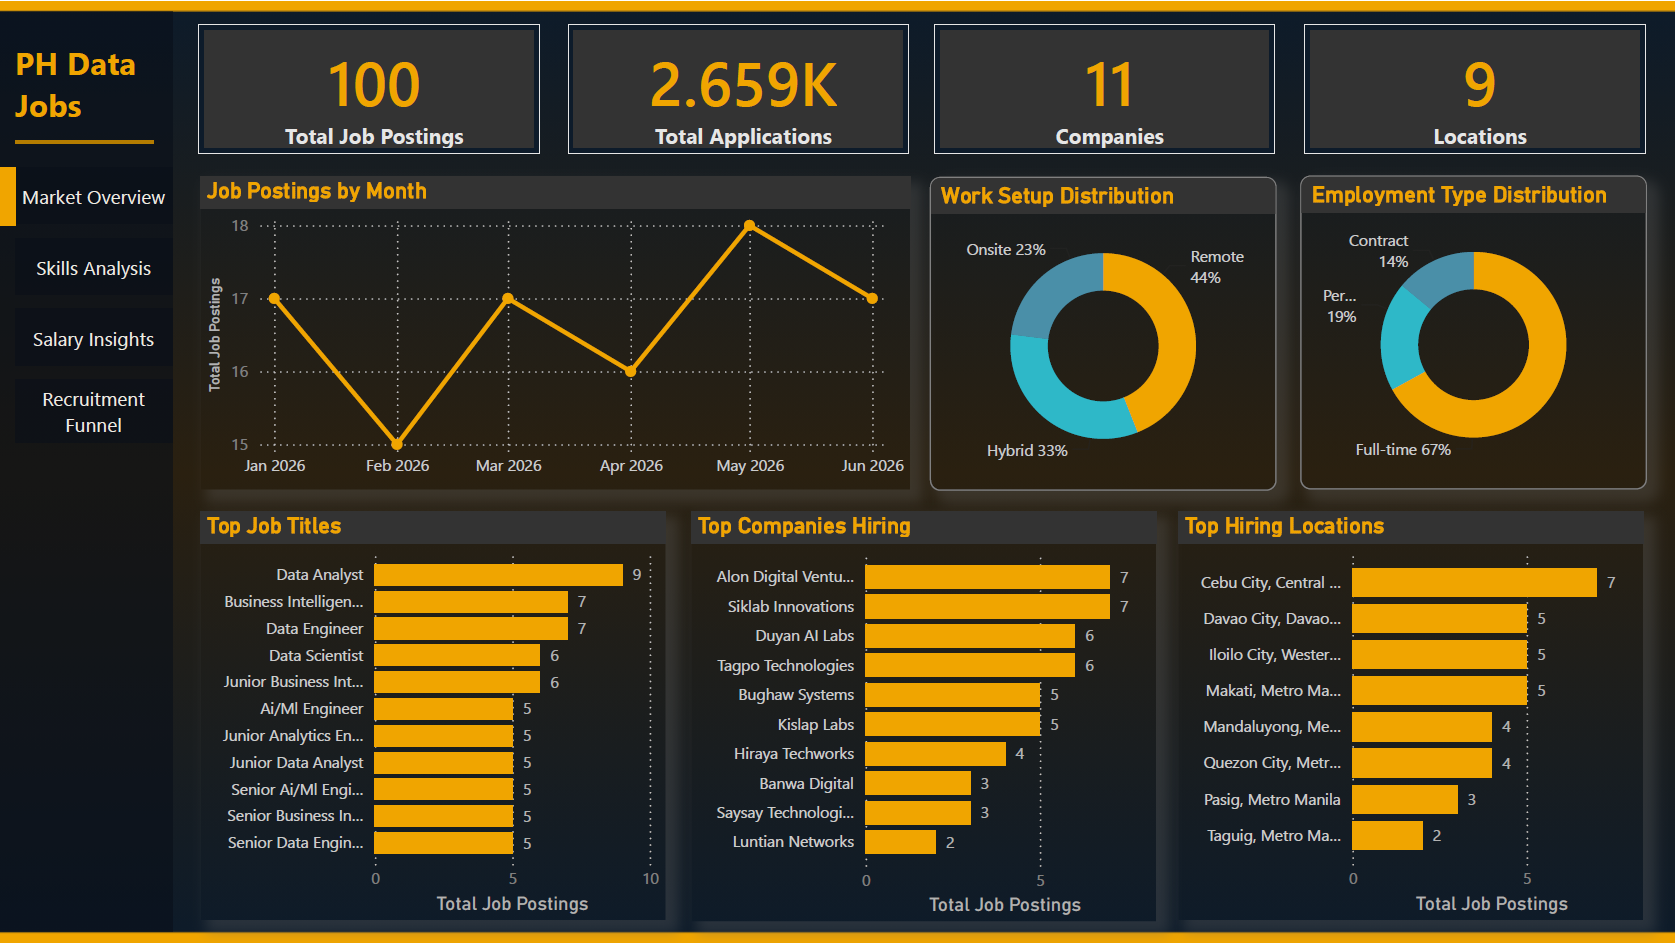

The dashboard page shown, as its layout file describes it:
{"tool":"powerbi","page":{"name":"Market Overview","canvas":[1280,720],"ordinal":0},"visuals":[{"type":"shape","box":[0,7.8,132,702.7],"z":0,"group":"g1"},{"type":"cardVisual","title":"Job Postings","fields":{"Data":["_Measures.Total Applications"]},"box":[416.7,0,295,134],"z":1000},{"type":"cardVisual","title":"Job Postings","fields":{"Data":["Count(dim_jobs.company)"]},"box":[696.7,0,295,134],"z":2000},{"type":"cardVisual","title":"Job Postings","fields":{"Data":["Count(dim_jobs.location)"]},"box":[980,0,295,134],"z":3000},{"type":"lineChart","title":"Job Postings by Month","fields":{"Category":["dim_jobs.posted_date (bins)"],"Y":["_Measures.Total Job Postings"]},"box":[153.8,133.8,542.5,238.8],"z":4000},{"type":"clusteredBarChart","title":"Top Job Titles","fields":{"Category":["dim_jobs.job_title"],"Y":["_Measures.Total Job Postings"]},"box":[153.8,390,355,312],"z":5000},{"type":"cardVisual","title":"Job Postings","fields":{"Data":["_Measures.Total Job Postings"]},"box":[134.7,0,295,134],"z":6000},{"type":"donutChart","title":"Work Setup Distribution","fields":{"Category":["dim_jobs.work_setup"],"Y":["_Measures.Total Job Postings"]},"box":[711.2,133.8,265,240],"z":7000},{"type":"donutChart","title":"Employment Type Distribution","fields":{"Category":["dim_jobs.employment_type"],"Y":["_Measures.Total Job Postings"]},"box":[993.8,132.5,265,240],"z":8000},{"type":"clusteredBarChart","title":"Top Companies Hiring","fields":{"Category":["dim_jobs.company"],"Y":["_Measures.Total Job Postings"]},"box":[529,390,355,312.5],"z":9000},{"type":"clusteredBarChart","title":"Top Hiring Locations","fields":{"Category":["dim_jobs.location"],"Y":["_Measures.Total Job Postings"]},"box":[901,390,355,312],"z":10000},{"type":"textbox","box":[6.9,25,108.6,98.6],"z":11000,"group":"g1"},{"type":"shape","box":[12,93.4,106.2,27.5],"z":12000,"group":"g1"},{"type":"actionButton","title":"Market Overview","box":[12.2,126.3,120,43.3],"z":13000,"group":"g1"},{"type":"actionButton","title":"Market Overview","box":[12.2,180.3,120,43.7],"z":14000,"group":"g1"},{"type":"actionButton","title":"Market Overview","box":[12.2,234.3,120,43.7],"z":15000,"group":"g1"},{"type":"actionButton","title":"Market Overview","box":[12.2,288.3,120,48.4],"z":16000,"group":"g1"},{"type":"shape","box":[0.2,126.3,12,44],"z":17000,"group":"g1"},{"type":"group","id":"g1","title":"Group 1","box":[0,7.8,132.2,702.7],"z":17001}]}

Visuals, with their boxes in screenshot pixels (x1, y1, x2, y2), scaled from the page's 1280x720 canvas onto the 1675x943 screenshot:
shape: bbox=[0, 10, 173, 931]
"Job Postings" cardVisual: bbox=[545, 0, 931, 176]
"Job Postings" cardVisual: bbox=[912, 0, 1298, 176]
"Job Postings" cardVisual: bbox=[1282, 0, 1668, 176]
"Job Postings by Month" lineChart: bbox=[201, 175, 911, 488]
"Top Job Titles" clusteredBarChart: bbox=[201, 511, 666, 919]
"Job Postings" cardVisual: bbox=[176, 0, 562, 176]
"Work Setup Distribution" donutChart: bbox=[931, 175, 1277, 490]
"Employment Type Distribution" donutChart: bbox=[1300, 174, 1647, 488]
"Top Companies Hiring" clusteredBarChart: bbox=[692, 511, 1157, 920]
"Top Hiring Locations" clusteredBarChart: bbox=[1179, 511, 1644, 919]
textbox: bbox=[9, 33, 151, 162]
shape: bbox=[16, 122, 155, 158]
"Market Overview" actionButton: bbox=[16, 165, 173, 222]
"Market Overview" actionButton: bbox=[16, 236, 173, 293]
"Market Overview" actionButton: bbox=[16, 307, 173, 364]
"Market Overview" actionButton: bbox=[16, 378, 173, 441]
shape: bbox=[0, 165, 16, 223]
"Group 1" group: bbox=[0, 10, 173, 931]
